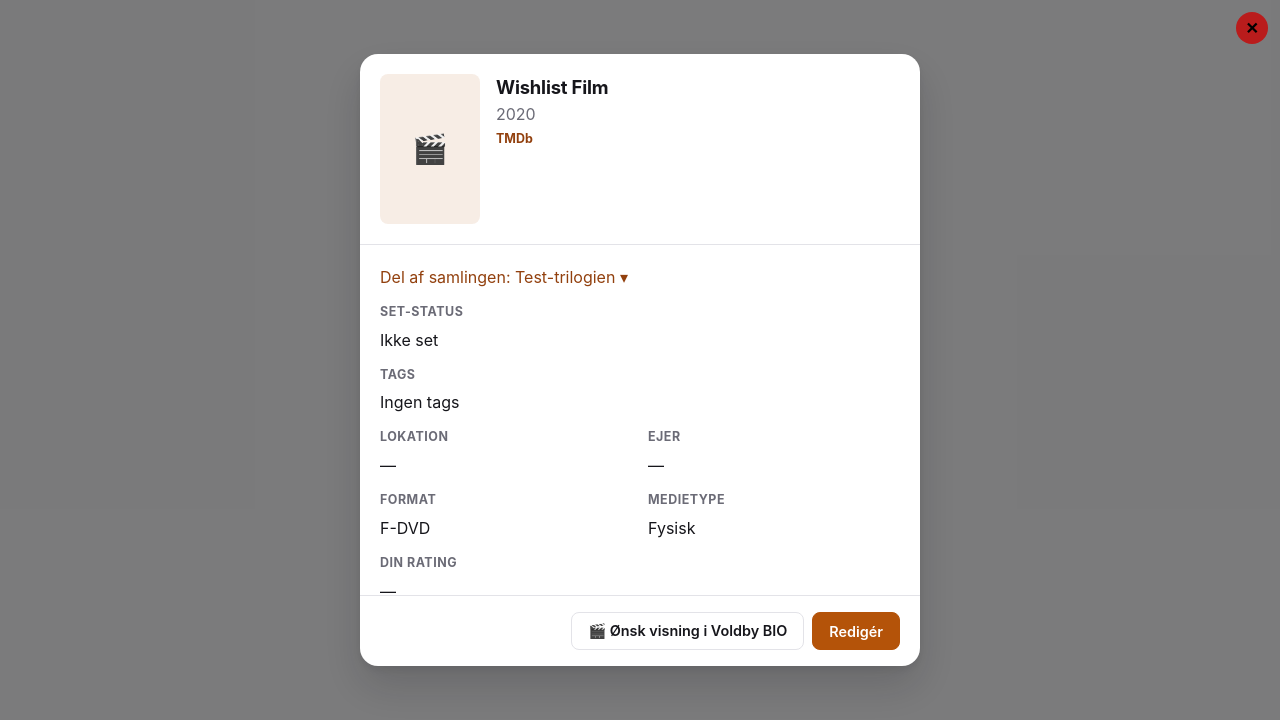
Test: CollectionSection — tilføj serie-del til ønskelisten (feature #196) › tillader tilføjelse til ønskelisten fra en EJET films collection-sektion (tidligere blokeret, BUGS.md #58), og '+ Ønskeliste'-knappen erstattes af 'På indkøbsli
The width and height of the screenshot is (1280, 720).
What coordinates should you click on to do the following:
click the button "Del af samlingen: Test-trilogien ▾"
I would click on:
 (504, 277)
Its box is [380,265,628,289].
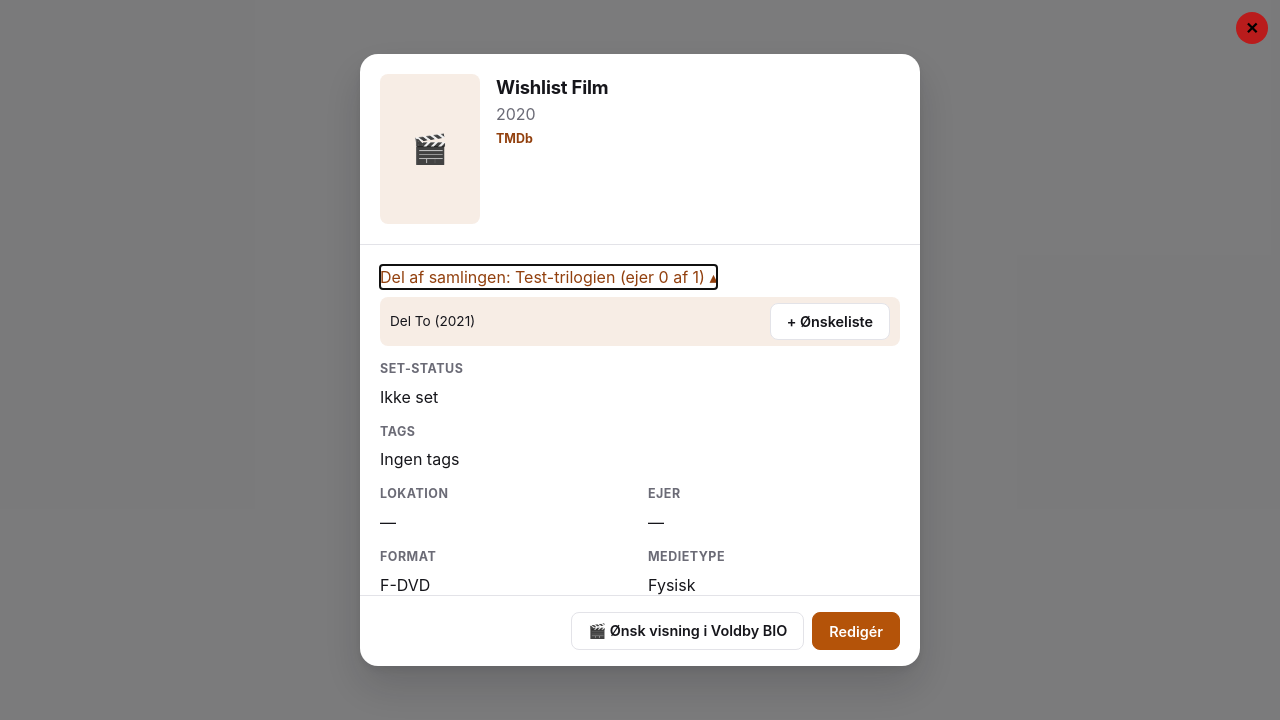
What coordinates should you click on to do the following:
click the button "+ Ønskeliste"
I would click on:
 (830, 322)
Its box is [770,303,890,340].
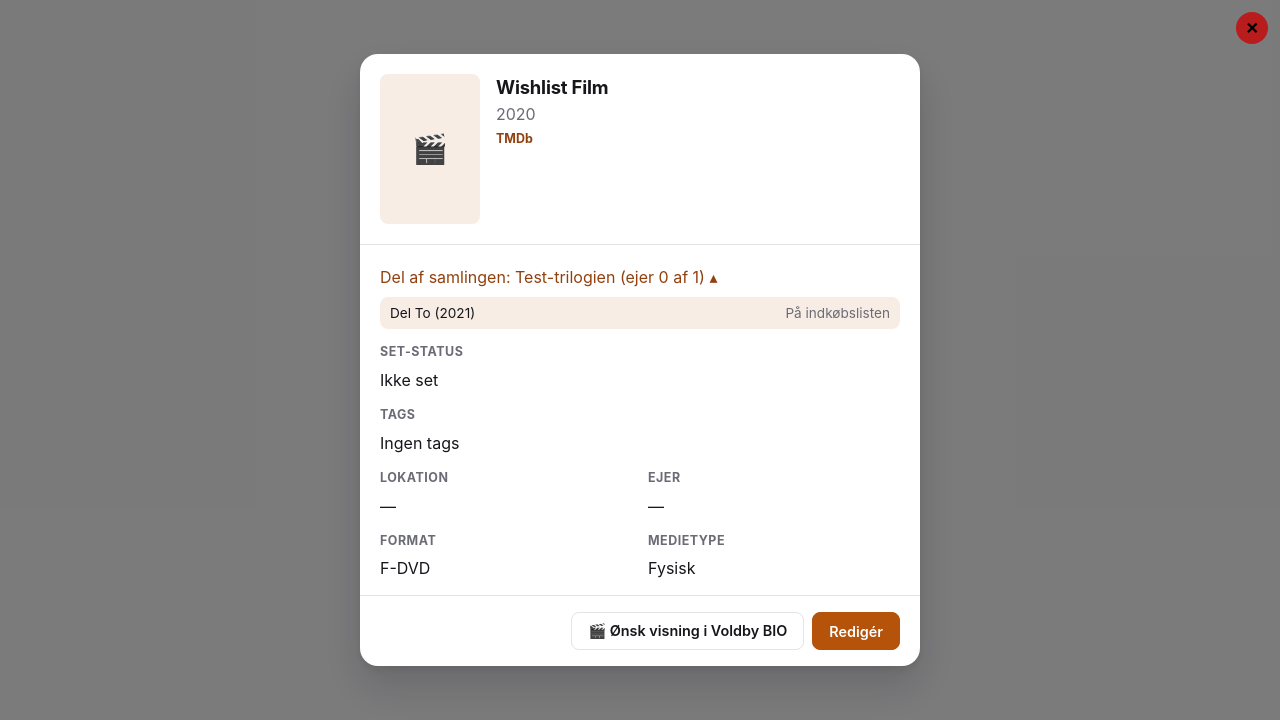
Check: the button "+ Ønskeliste" is gone
Check: the text "På indkøbslisten" is shown, box [785,303,890,323]
